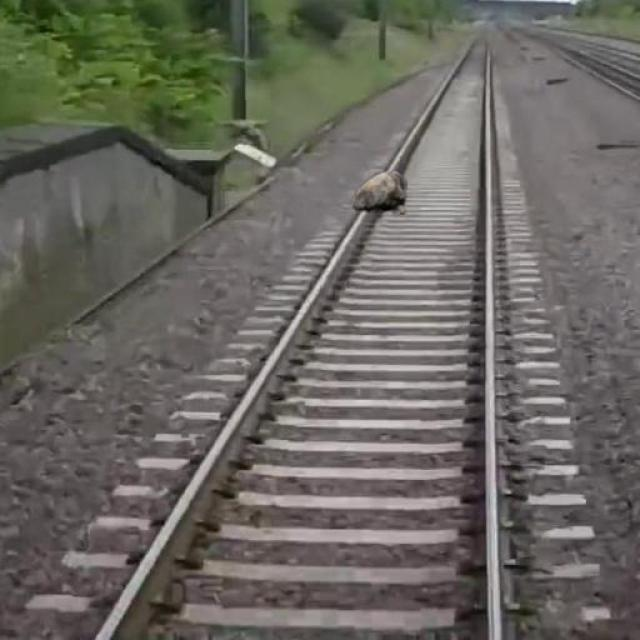Stone: (347, 165, 415, 220)
